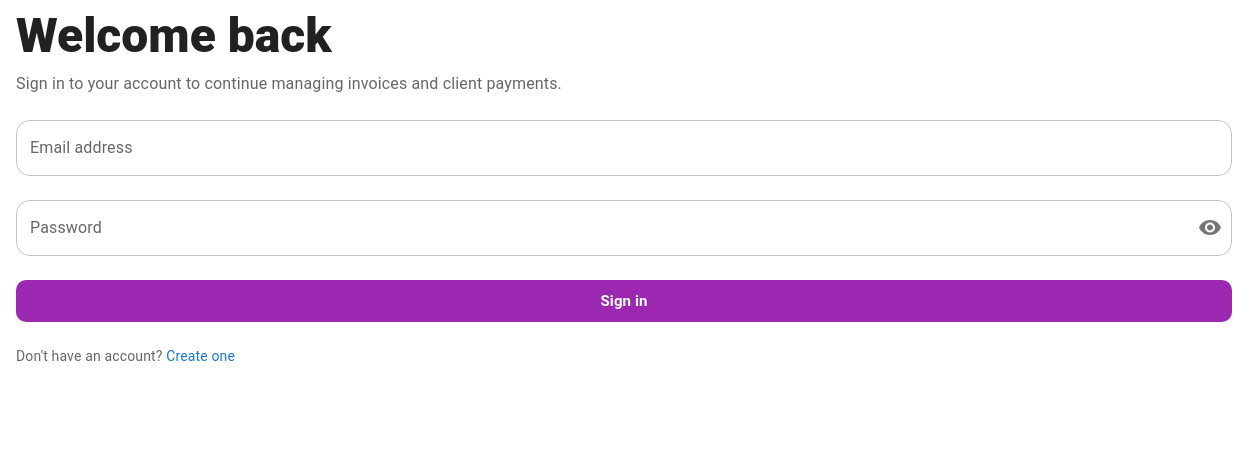
Scenario: Login page › shows API error and does not navigate when backend rejects login (401)
This screenshot has width=1249, height=450.
Type "qa@invoicepro.com" into the field labelled "Email address" at (624,148), box [16,120,1232,176]
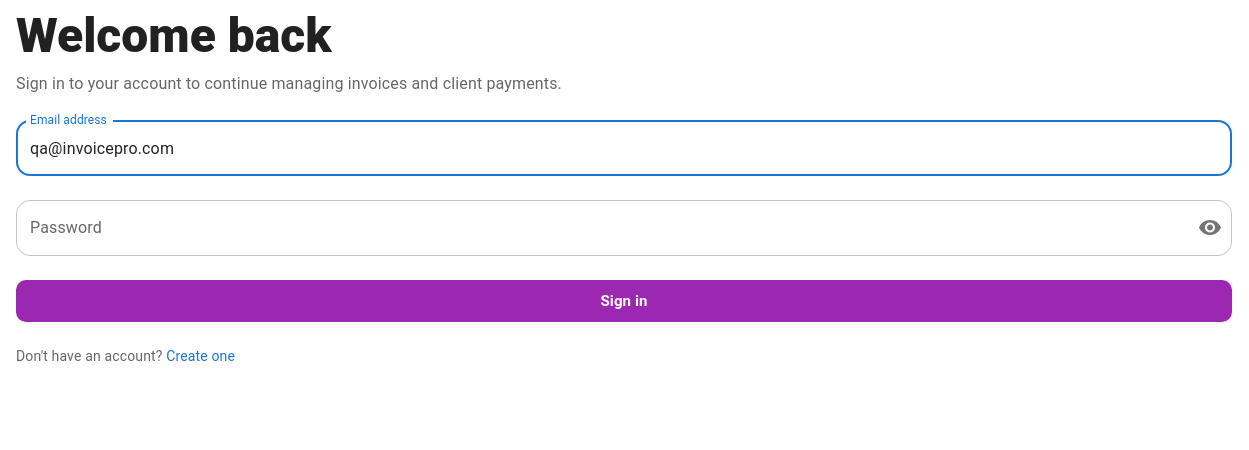
Type "password123" into the password field labelled "Password" at (599,228), box [16,200,1182,256]
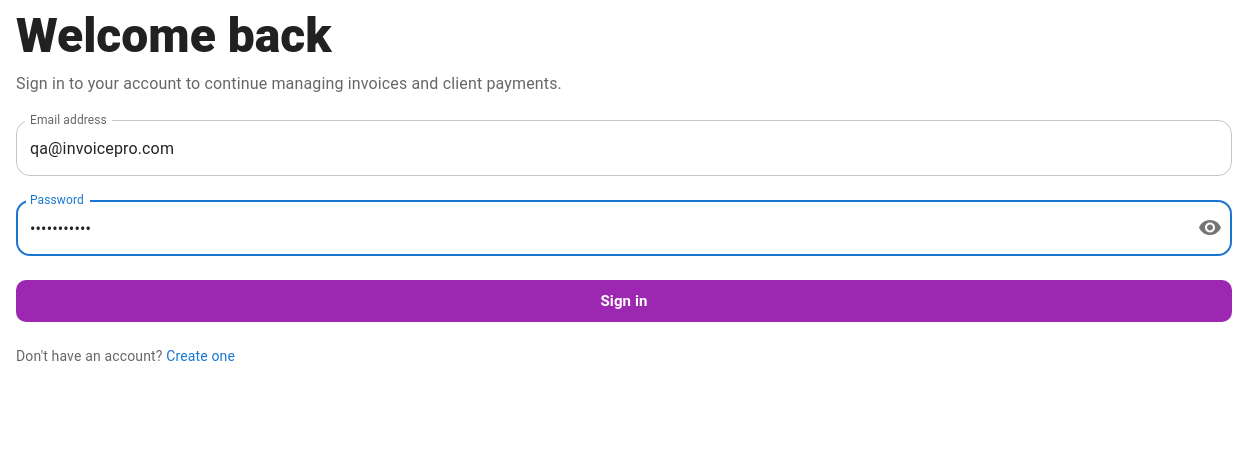
Click the button "Sign in" at (624,301), box [16,280,1232,322]
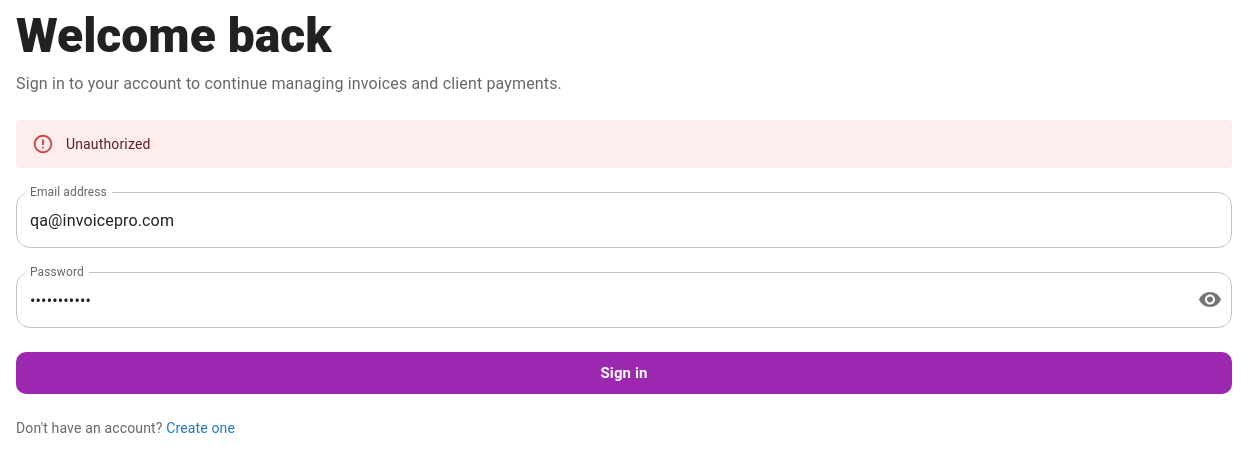
Expected: the text "Unauthorized" is shown, [66,136,150,152]
